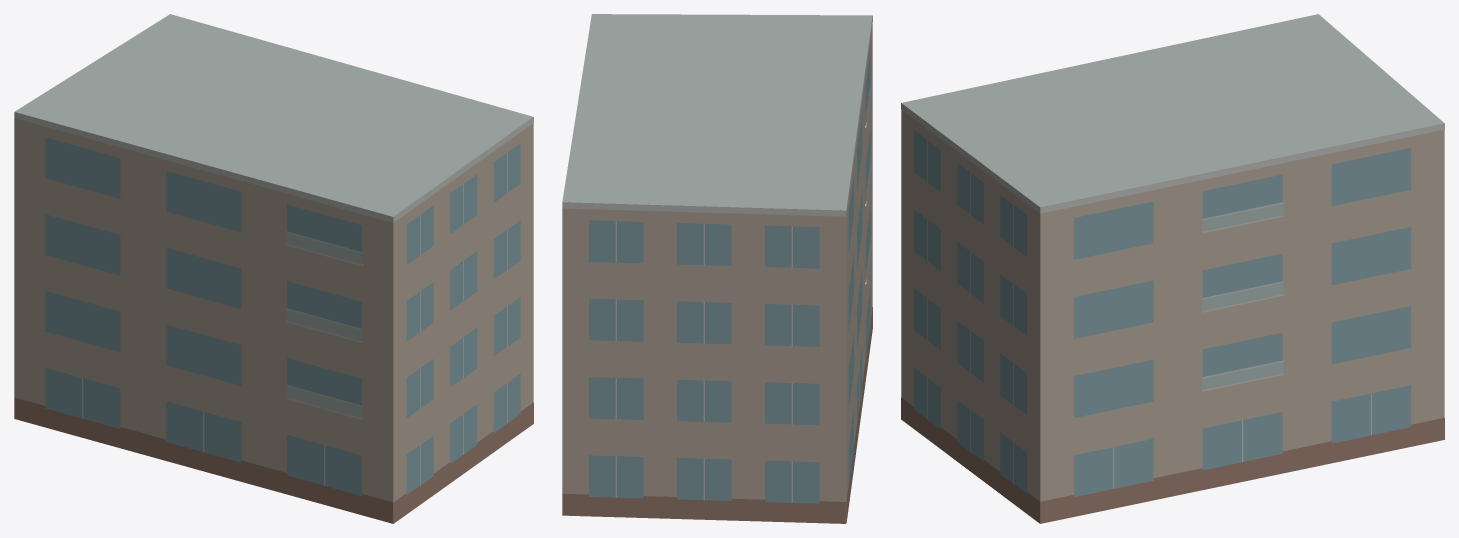
The model's file is survey-upis-32745197.glb.
3 renders of one model, left to right at view 1: azimuth 30°, elevation 25°; view 2: azimuth 150°, elevation 25°; view 3: azimuth 270°, elevation 25°, orthographic. The views are drawn at different scales.
Visible parts, largest first — view 1: survey-upis-32745197.tmp; view 2: survey-upis-32745197.tmp; view 3: survey-upis-32745197.tmp.
Boxes of the visible parts, x1,y1,x2,y2 form: survey-upis-32745197.tmp: (14,14,533,523); survey-upis-32745197.tmp: (562,14,872,523); survey-upis-32745197.tmp: (901,14,1444,523).
Size of the model in its own units: 16 by 12.2 by 19.
